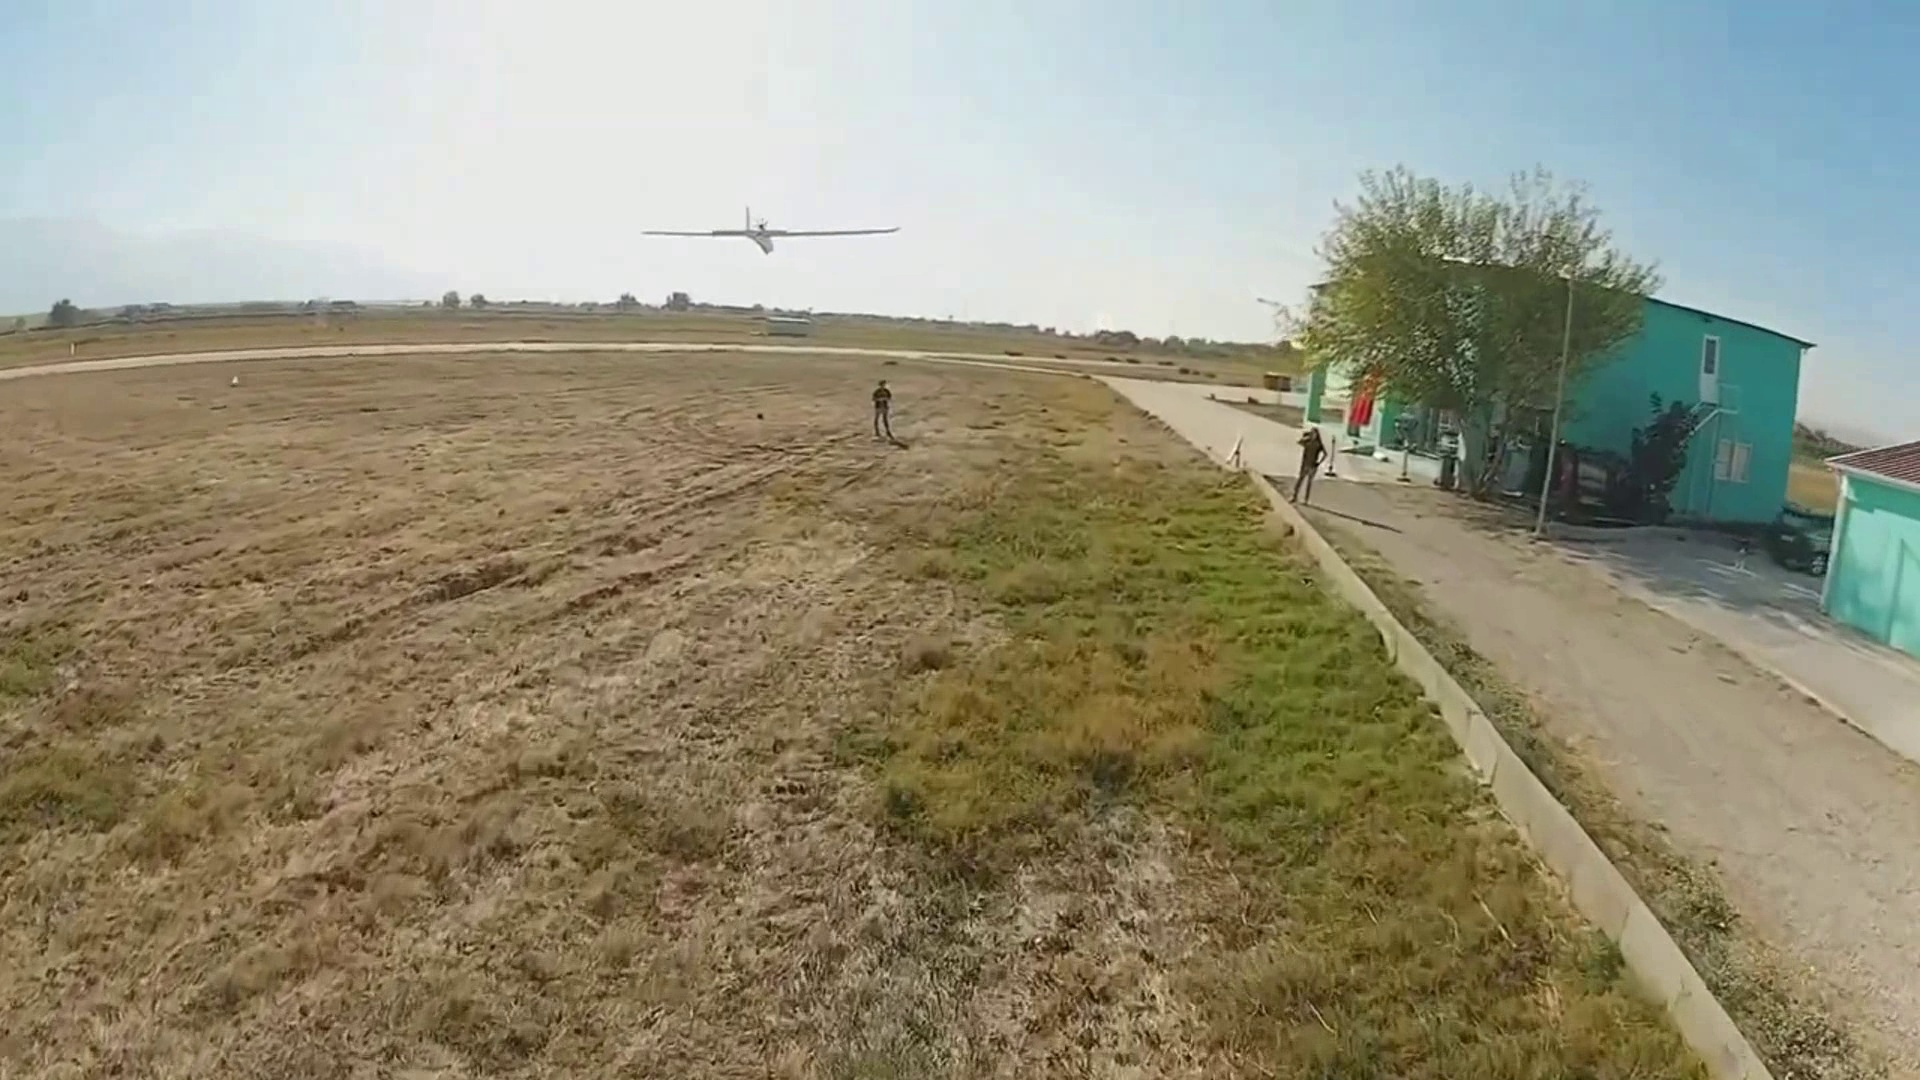airplane: (638, 214, 903, 251)
